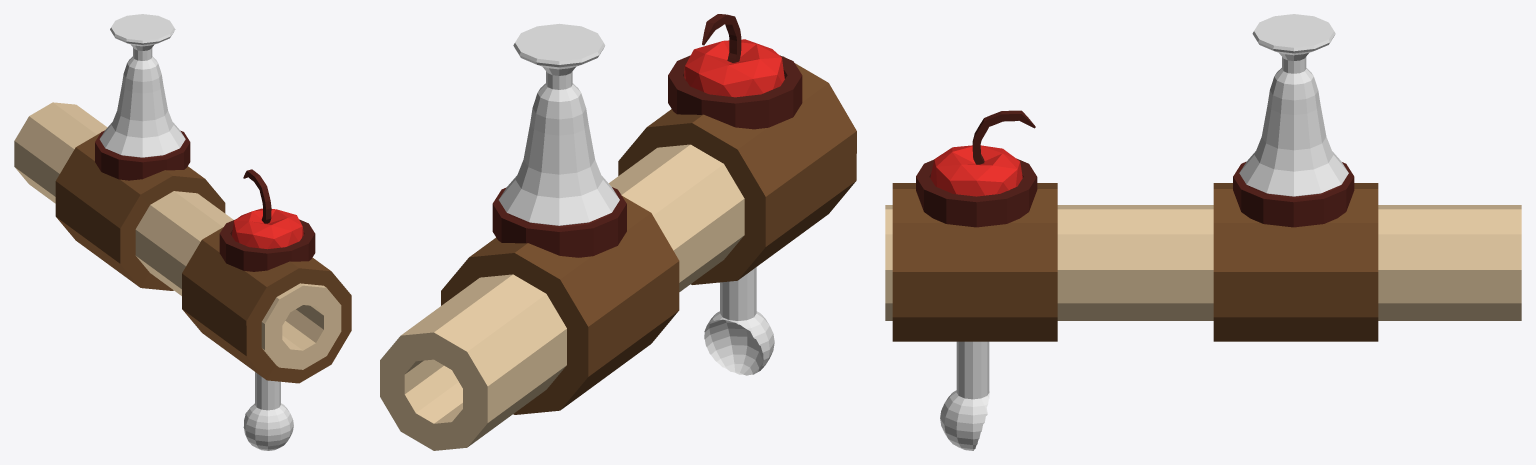
The model's file is Teste_Arma_Sorvete_2.fbx.
The picture shows the model from 3 angles, left to right: view 1: azimuth 30°, elevation 25°; view 2: azimuth 150°, elevation 25°; view 3: azimuth 270°, elevation 25°; orthographic projection. The views are drawn at different scales.
Visible parts, largest first — view 1: reforço_chocolate, corpo_biscoito, municao_tras_copo, entrada_donuts, municao_frente_maca, gatilho_colher; view 2: reforço_chocolate, corpo_biscoito, municao_tras_copo, entrada_donuts, municao_frente_maca, gatilho_colher; view 3: reforço_chocolate, corpo_biscoito, municao_tras_copo, entrada_donuts, municao_frente_maca, gatilho_colher.
Part boxes in pixels (<box>): reforço_chocolate: <box>55,130,351,383</box>; corpo_biscoito: <box>14,102,341,369</box>; municao_tras_copo: <box>99,14,185,158</box>; entrada_donuts: <box>95,130,315,271</box>; municao_frente_maca: <box>232,169,303,249</box>; gatilho_colher: <box>243,372,293,450</box>; reforço_chocolate: <box>441,56,856,414</box>; corpo_biscoito: <box>380,144,744,450</box>; municao_tras_copo: <box>499,23,619,227</box>; entrada_donuts: <box>492,55,802,257</box>; municao_frente_maca: <box>684,14,784,97</box>; gatilho_colher: <box>704,267,774,375</box>; reforço_chocolate: <box>892,183,1378,341</box>; corpo_biscoito: <box>885,205,1521,320</box>; municao_tras_copo: <box>1239,14,1348,198</box>; entrada_donuts: <box>916,158,1354,227</box>; municao_frente_maca: <box>930,110,1035,196</box>; gatilho_colher: <box>940,341,989,450</box>.
Size of the model in its own units: 103 by 310 by 428.
